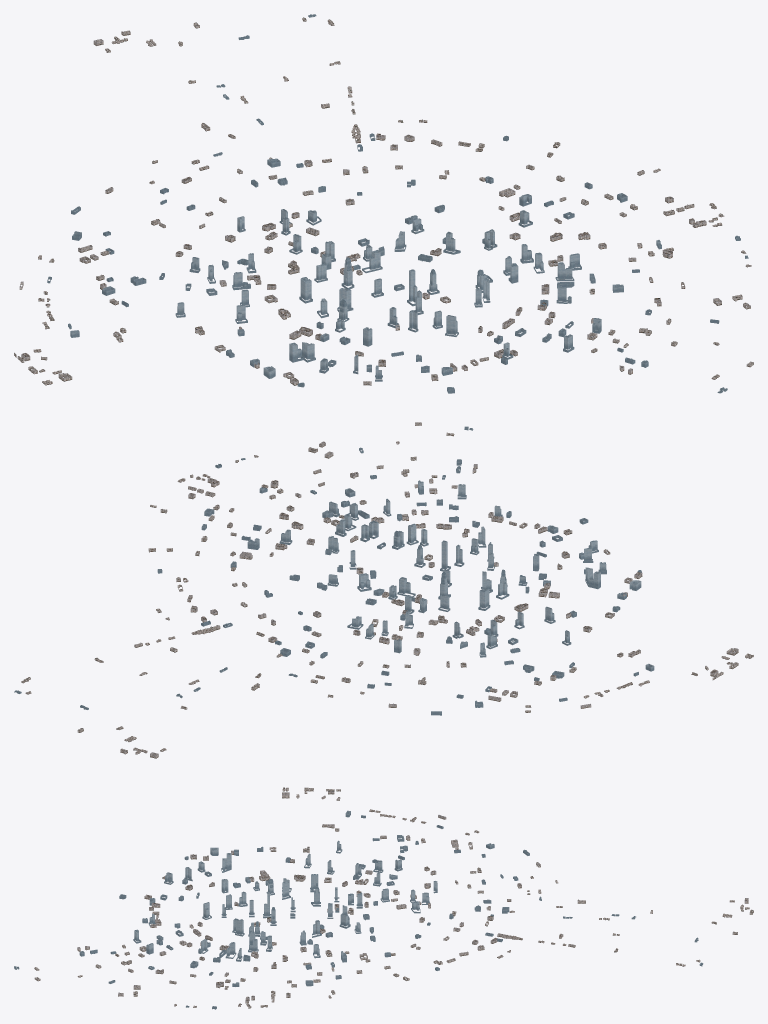
Rendered from city_3d_model_11.glb.
3 renders of one model, top to bottom at view 1: azimuth 30°, elevation 25°; view 2: azimuth 150°, elevation 25°; view 3: azimuth 270°, elevation 25°, orthographic. The views are drawn at different scales.
Visible parts, largest first — view 1: Object_44, Object_28; view 2: Object_44, Object_28; view 3: Object_44, Object_28.
Part boxes in pixels (bbox=[...]): Object_44: bbox=[47, 14, 748, 393]; Object_28: bbox=[14, 17, 753, 385]; Object_44: bbox=[14, 426, 654, 715]; Object_28: bbox=[21, 422, 753, 758]; Object_44: bbox=[14, 810, 703, 1009]; Object_28: bbox=[34, 787, 753, 1008].
Bounding box in the file's own units: 753 × 41.33 × 982.
Materials: 2 (2 with a texture image).
